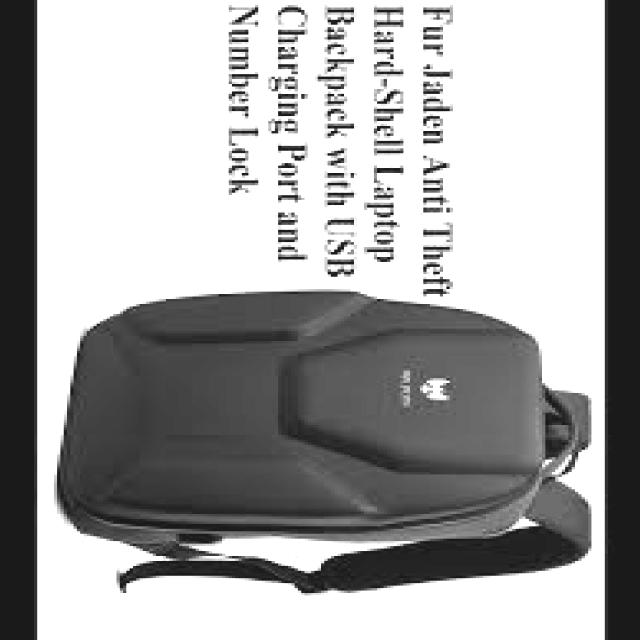backpack: (57, 290, 595, 594)
